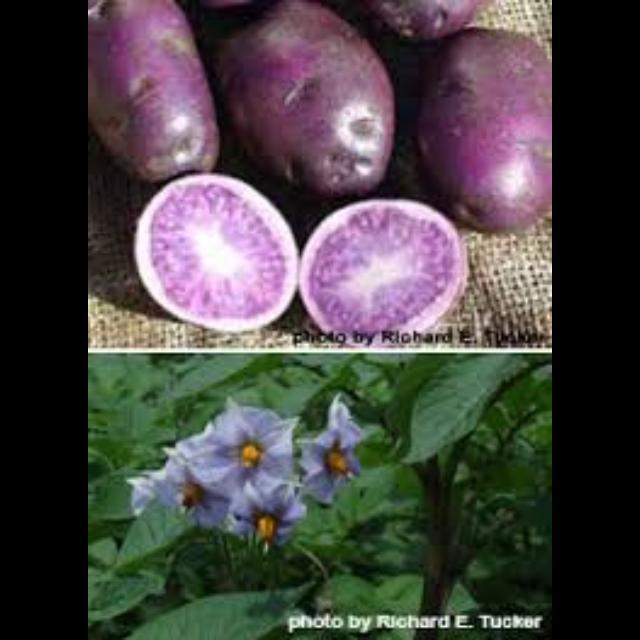Defected potato: (205, 1, 398, 200), (404, 20, 552, 232), (133, 175, 294, 331), (302, 198, 470, 344), (89, 1, 219, 178)
